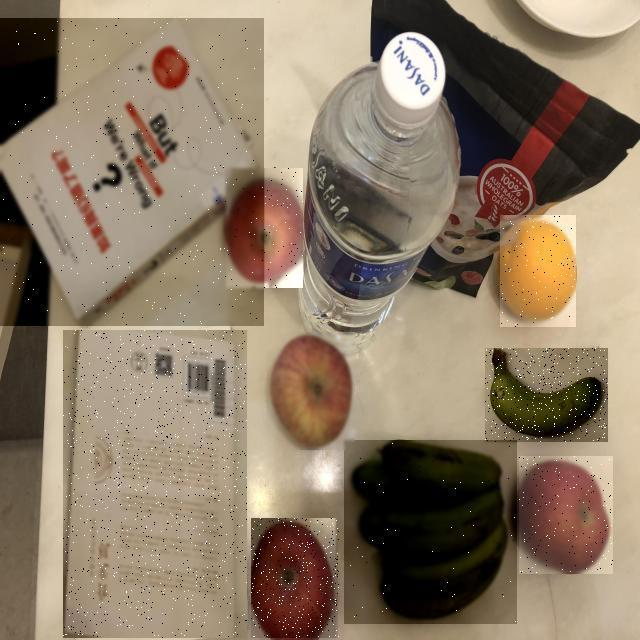Apple: (519, 456, 613, 574), (252, 518, 340, 638), (267, 332, 355, 450), (226, 168, 303, 288)
Banana: (344, 440, 517, 624), (485, 348, 608, 442)
Book: (1, 18, 265, 326), (63, 331, 247, 639)
Orange: (500, 215, 576, 327)
